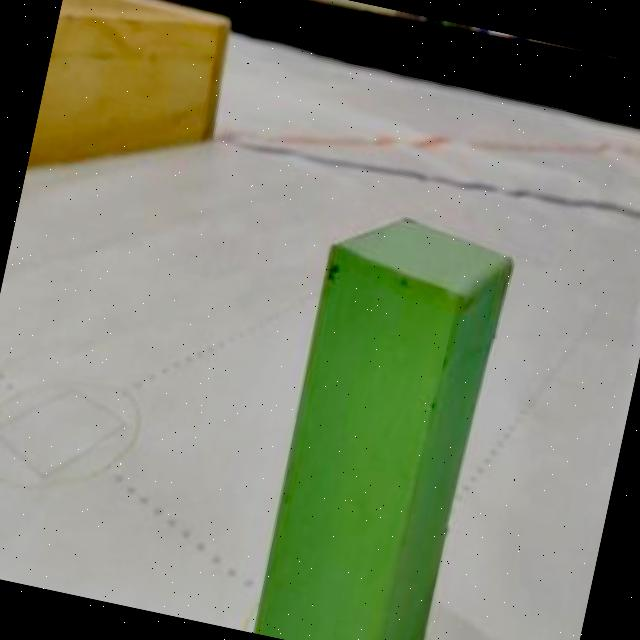greenbox: (241, 196, 523, 640)
